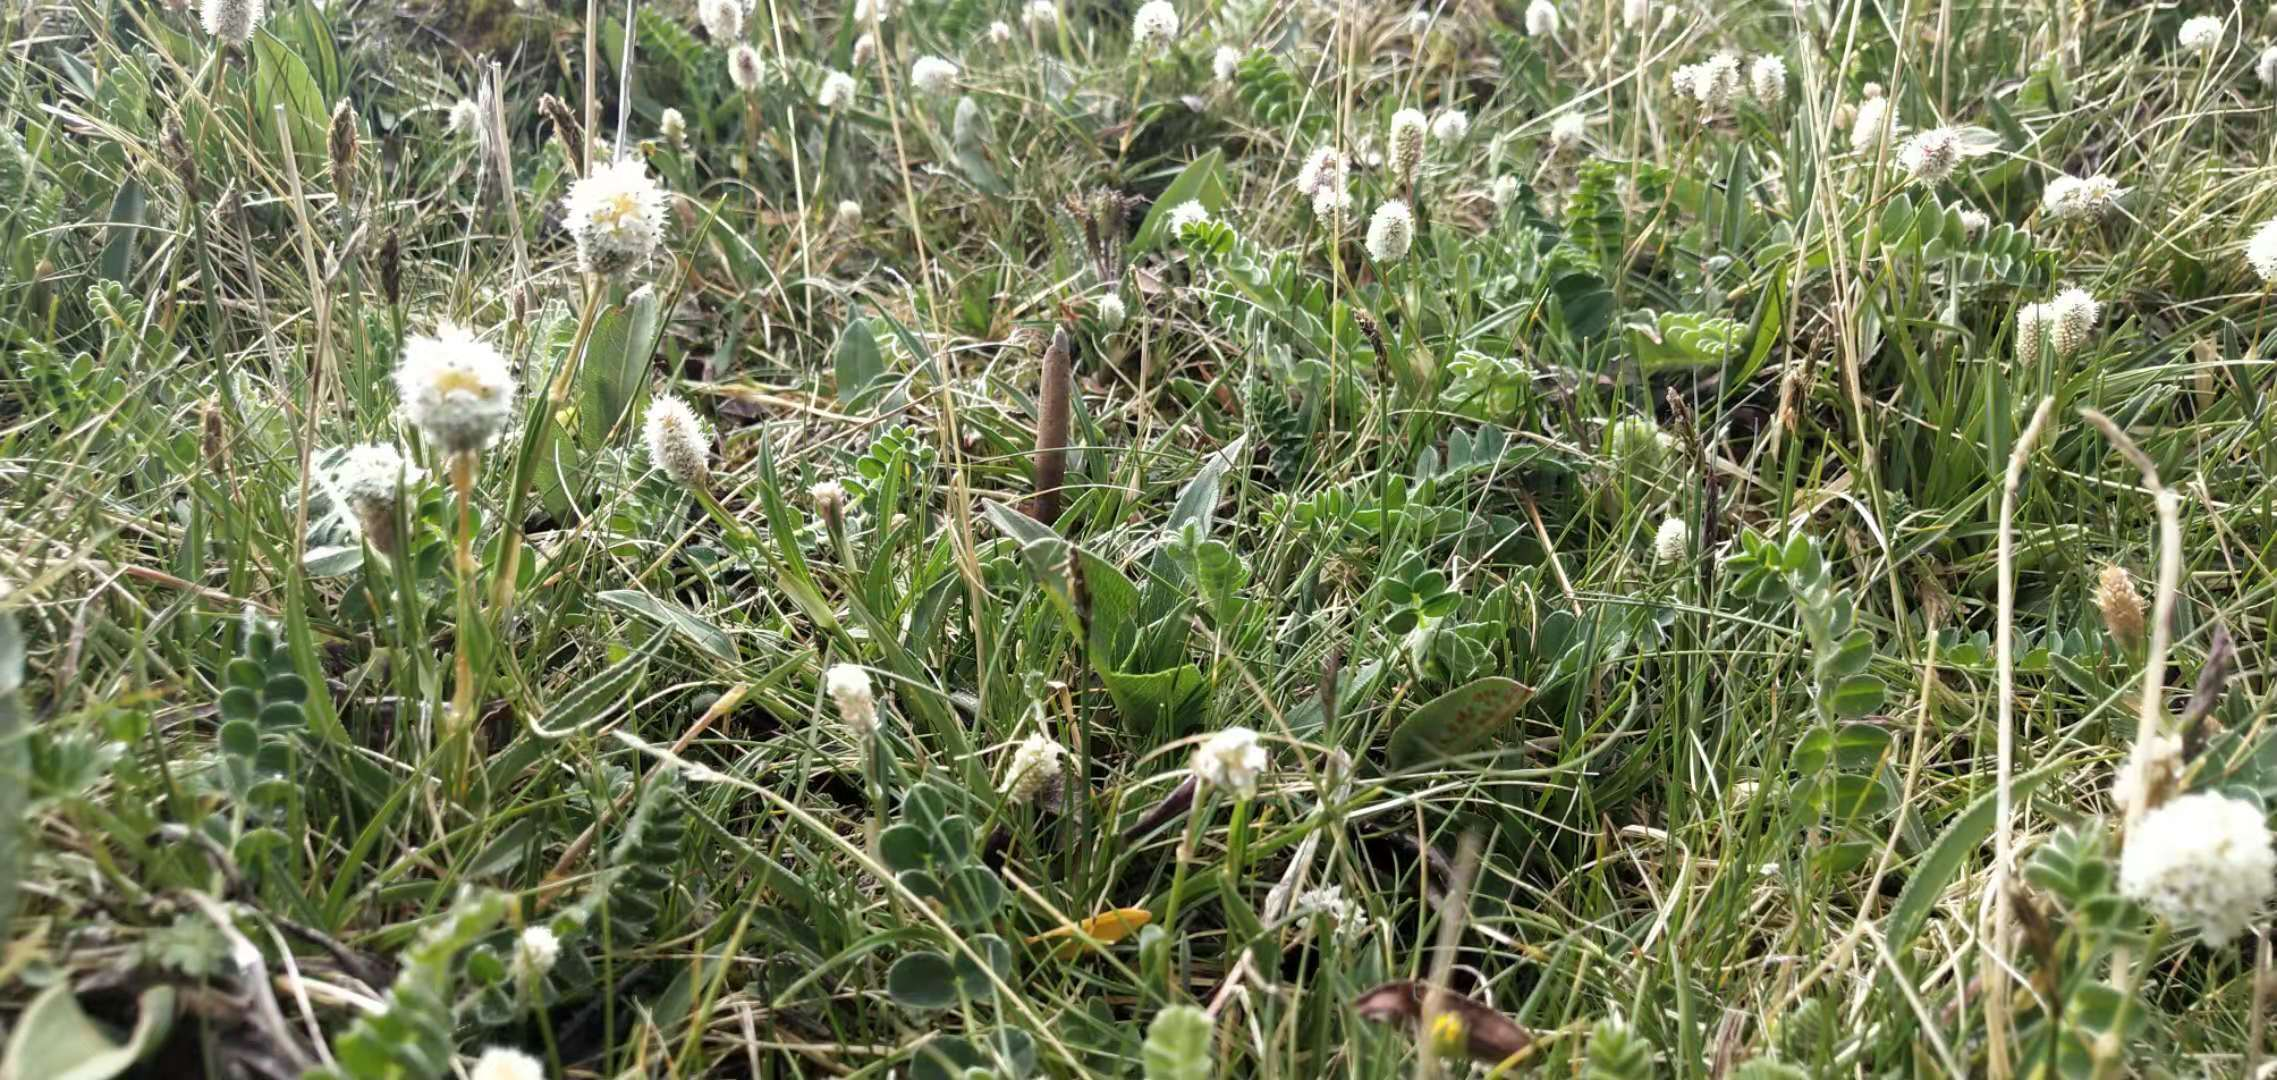Chongcao: (1034, 325, 1072, 525)
